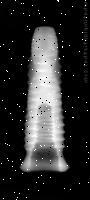Cowellmedi: (10, 24, 70, 176)
